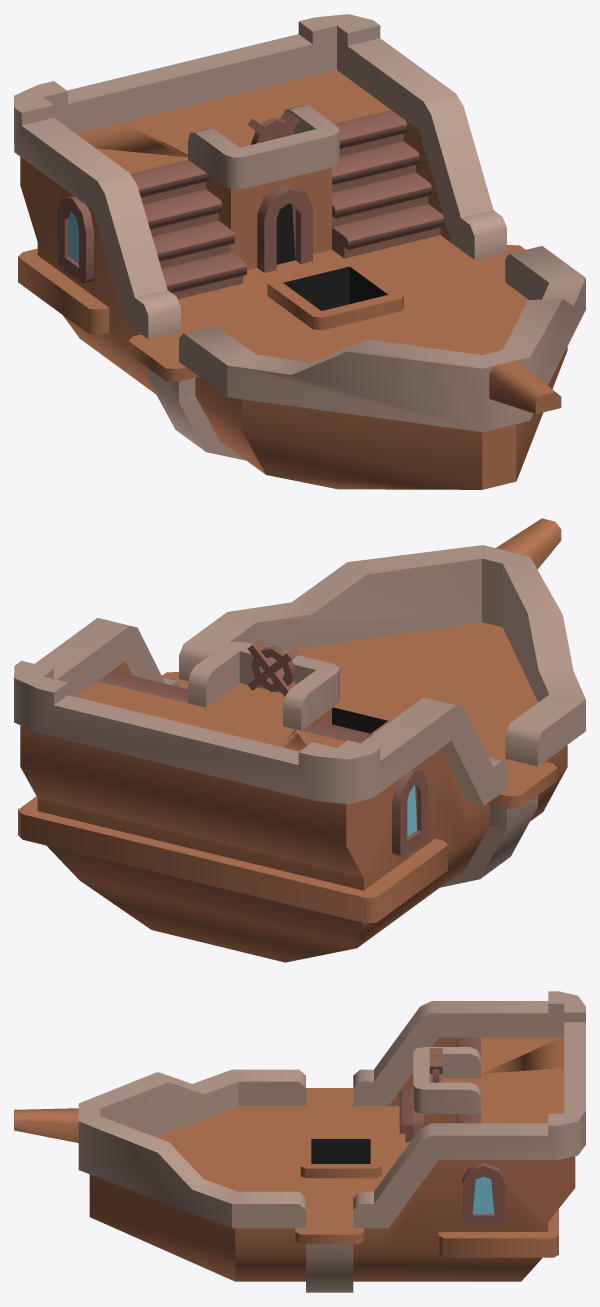
The model's file is ship_1.fbx.
3 renders of one model, top to bottom at view 1: azimuth 30°, elevation 25°; view 2: azimuth 150°, elevation 25°; view 3: azimuth 270°, elevation 25°, orthographic. The views are drawn at different scales.
Parts seen in each view (by area): view 1: ship-medium; view 2: ship-medium; view 3: ship-medium.
Part boxes in pixels (x1=…): ship-medium: x1=14, y1=14, x2=585, y2=489; ship-medium: x1=14, y1=518, x2=585, y2=962; ship-medium: x1=14, y1=991, x2=585, y2=1292.
Bounding box in the file's own units: 6.43 × 4.28 × 10.6.
